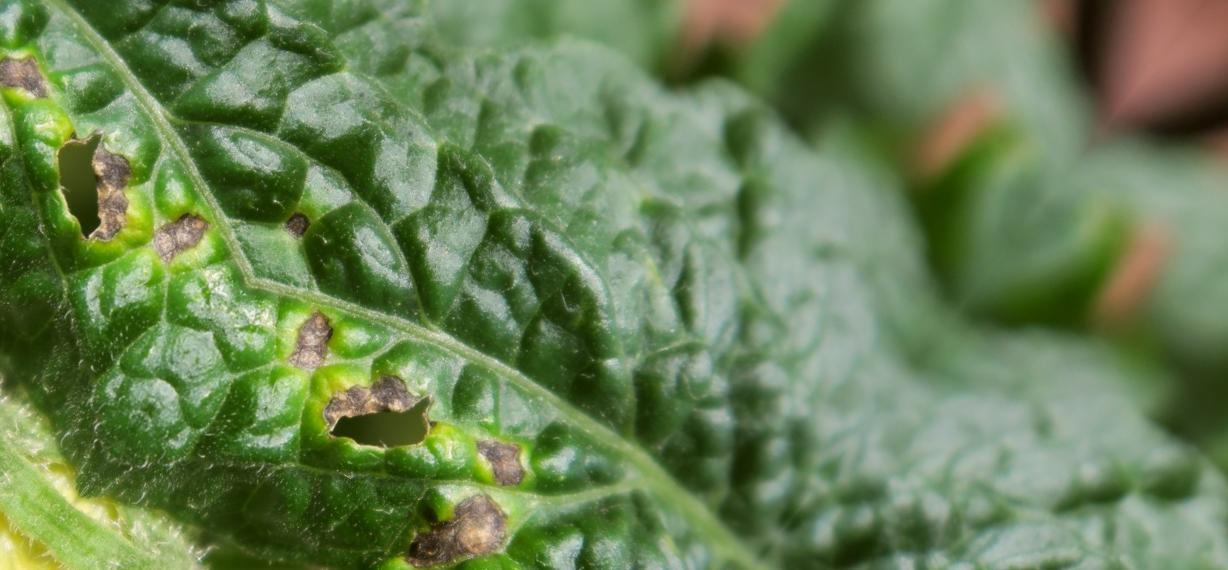Tomato leaf bacterial spot: (8, 0, 954, 570)
